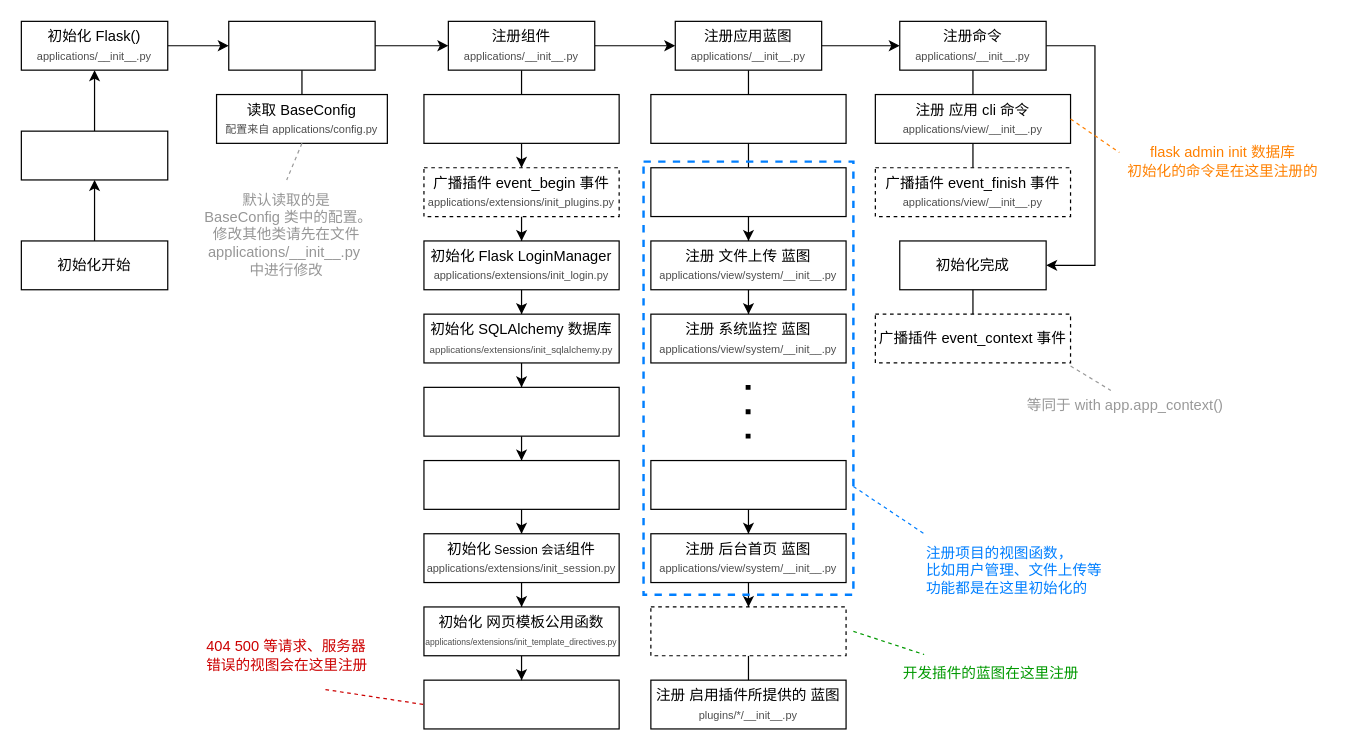
Some shapes in this 1348 by 750 pixel diagram are drawn without their labels. Each missing label, with the centre of its shape:
app = create_app() app.py: the point at 94,155
初始化 Mail 邮件组件 applications/extensions/init_error_views.py: the point at 521,411
初始化 Migrate 数据库迁移组件 applications/extensions/init_migrate.py: the point at 521,484
初始化 服务器错误蓝图 applications/extensions/init_error_views.py: the point at 521,704
初始化插件 applications/extensions/init_plugins.py: the point at 521,118
广播插件 event_init 事件 applications/view/__init__.py: the point at 748,631
注册 用户管理 蓝图 applications/view/system/__init__.py: the point at 748,192
注册 部门管理 蓝图 applications/view/system/__init__.py: the point at 748,484
注册应用子页面路由 applications/view/__init__.py: the point at 748,118
载入配置 applications/__init__.py: the point at 301,45
